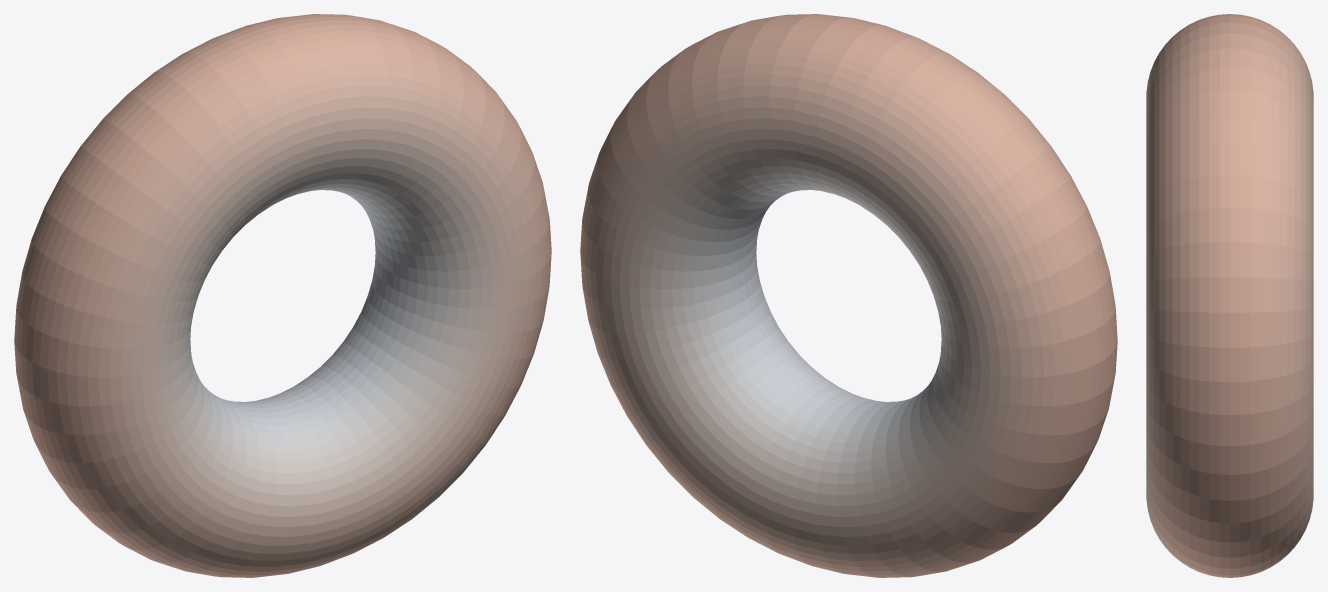
3 views of the same model, side by side, from view 1: azimuth 30°, elevation 25°; view 2: azimuth 150°, elevation 25°; view 3: azimuth 270°, elevation 25° (orthographic). The views are drawn at different scales.
Visible parts, largest first — view 1: world; view 2: world; view 3: world.
Boxes of the visible parts, box(x1,y1,x2,y2) form: world: box(14, 14, 551, 577); world: box(580, 14, 1117, 577); world: box(1146, 14, 1313, 577).
Bounding box in the file's own units: 25.6 × 25.55 × 7.59.
